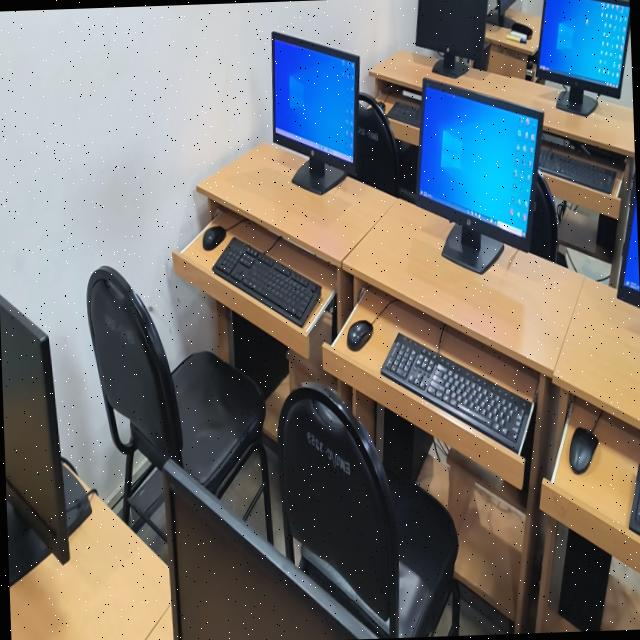Chair: (87, 266, 272, 545), (277, 382, 459, 638), (352, 93, 400, 195), (529, 173, 566, 266)
Cpu: (558, 530, 611, 631), (232, 313, 288, 397), (381, 408, 432, 482)
Keyboard: (380, 332, 533, 454), (212, 238, 321, 327), (539, 141, 616, 194), (387, 102, 419, 127), (629, 464, 640, 535)
Monitor: (162, 458, 379, 640), (0, 294, 91, 586), (416, 78, 542, 273), (272, 32, 359, 194), (537, 0, 630, 115), (416, 0, 487, 76), (617, 166, 640, 306), (487, 0, 515, 24)
Mouse: (569, 427, 598, 474), (347, 320, 373, 350), (202, 226, 226, 250)
